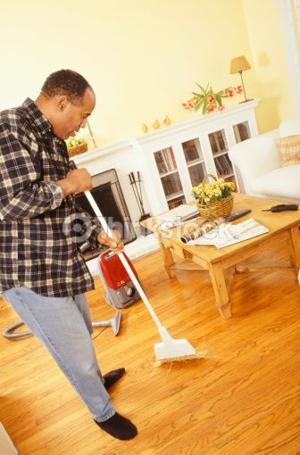person: (1, 68, 138, 445)
